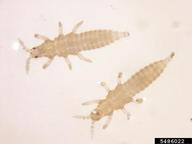Thrips: (83, 48, 182, 130), (12, 28, 132, 68)
